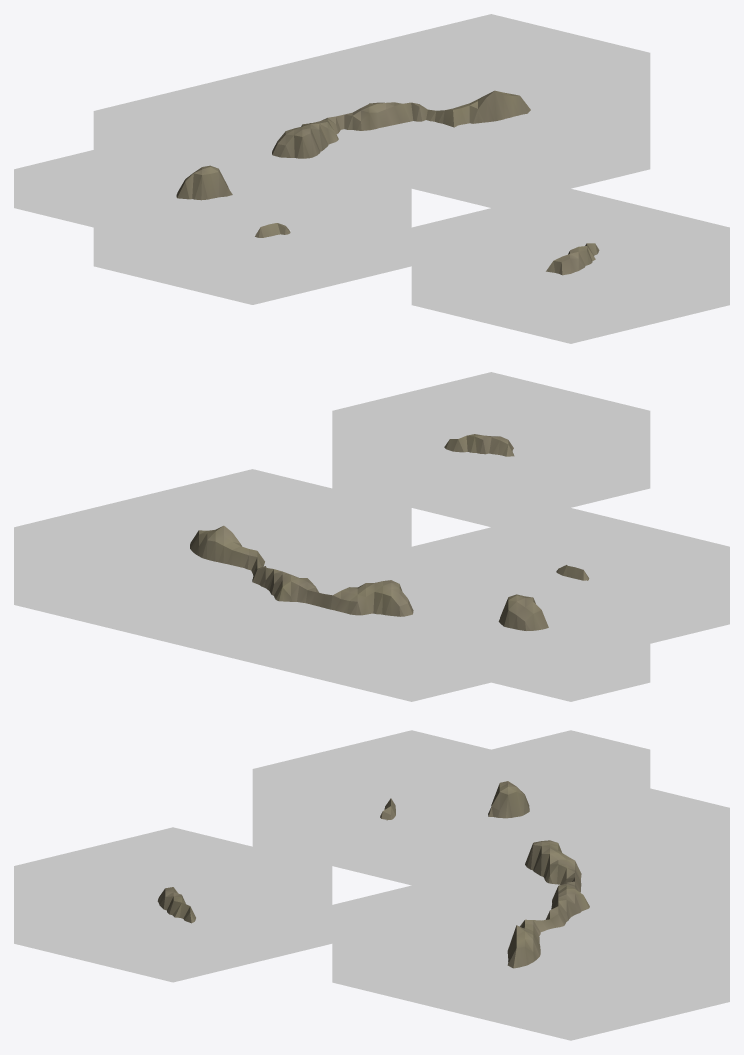
Rendered from landmark-abrolhos-low.v1.glb.
3 views of the same model, one above another, from view 1: azimuth 30°, elevation 25°; view 2: azimuth 150°, elevation 25°; view 3: azimuth 270°, elevation 25° (orthographic).
Visible parts, largest first — view 1: surf, island; view 2: surf, island; view 3: surf, island.
Boxes of the visible parts, bbox=[...] form: surf: bbox=[14, 14, 729, 343]; island: bbox=[176, 90, 599, 275]; surf: bbox=[14, 372, 729, 701]; island: bbox=[190, 434, 589, 630]; surf: bbox=[14, 730, 729, 1040]; island: bbox=[157, 781, 589, 968].
Bounding box in the file's own units: 48.96 × 5.15 × 47.7.
